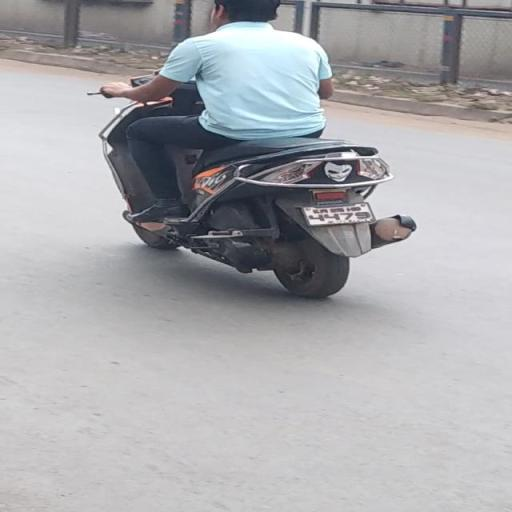bike: (88, 0, 422, 303)
numberplate: (299, 196, 377, 230)
withouthelmet: (214, 0, 276, 25)
